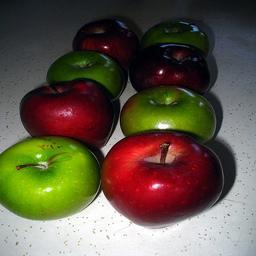apple: (102, 134, 233, 228), (1, 136, 101, 221), (19, 81, 119, 151), (119, 87, 217, 140), (130, 44, 211, 92), (45, 51, 124, 98), (72, 19, 136, 60), (143, 19, 209, 54)
